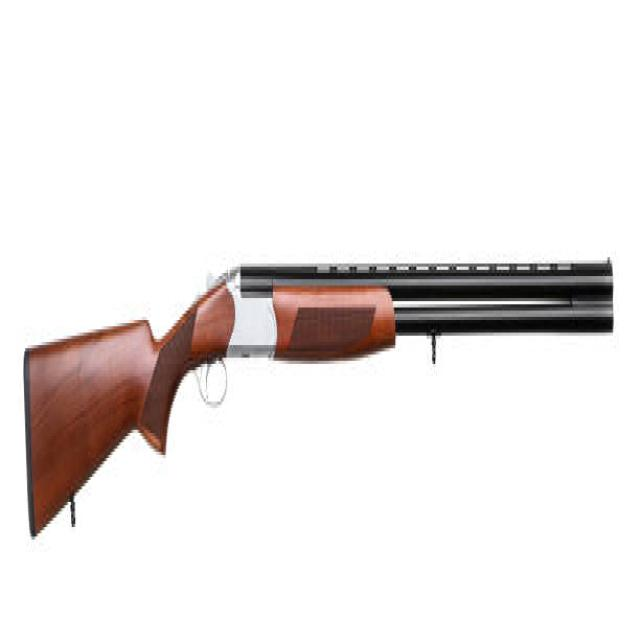rifle: (19, 229, 621, 549)
